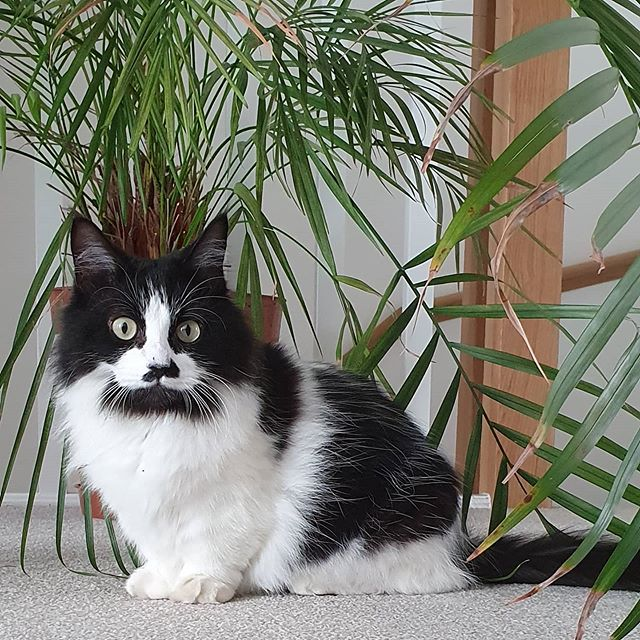cat: (44, 208, 253, 426)
